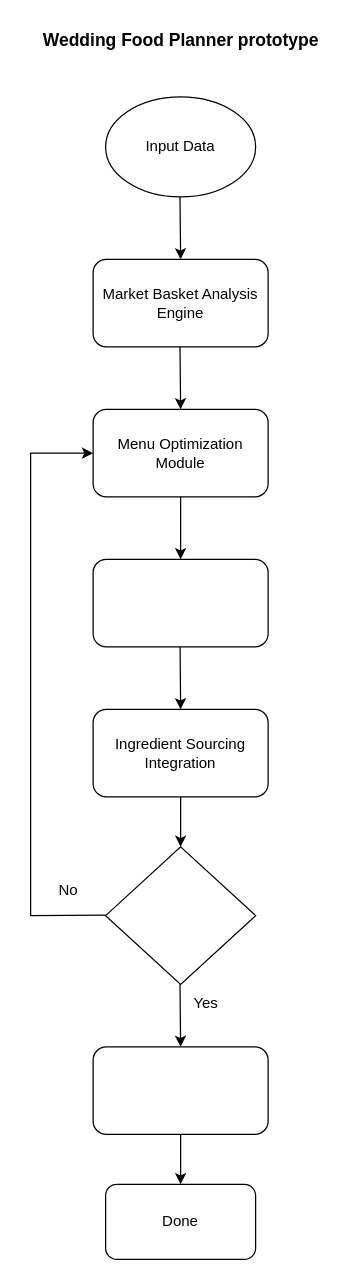
The diagram is 353 pixels wide and 1281 high, and some of its shapes have lost their labels. Each missing label, with the centre of its shape:
"Personalization Interface" goes at (x=180, y=602).
"Predictive Analytics and Reporting" goes at (x=180, y=1090).
"Satisfied with selected menu?" goes at (x=180, y=915).
